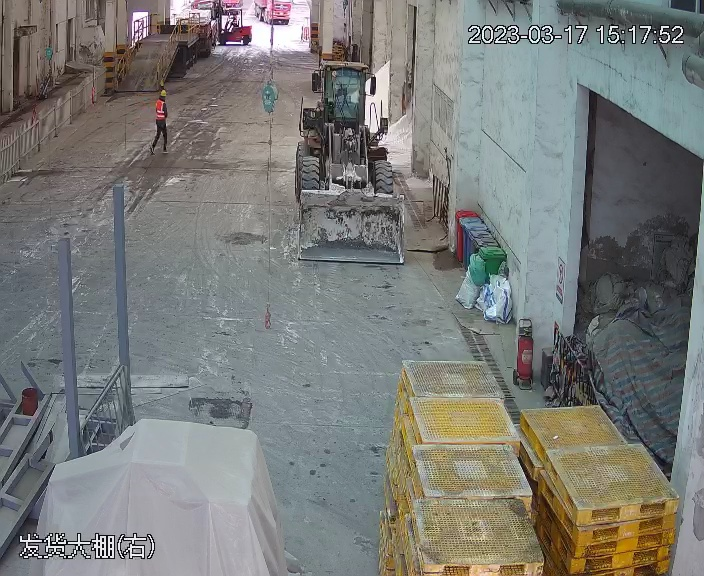head: (153, 89, 169, 109)
helmet: (159, 89, 167, 98)
people: (151, 88, 171, 155)
